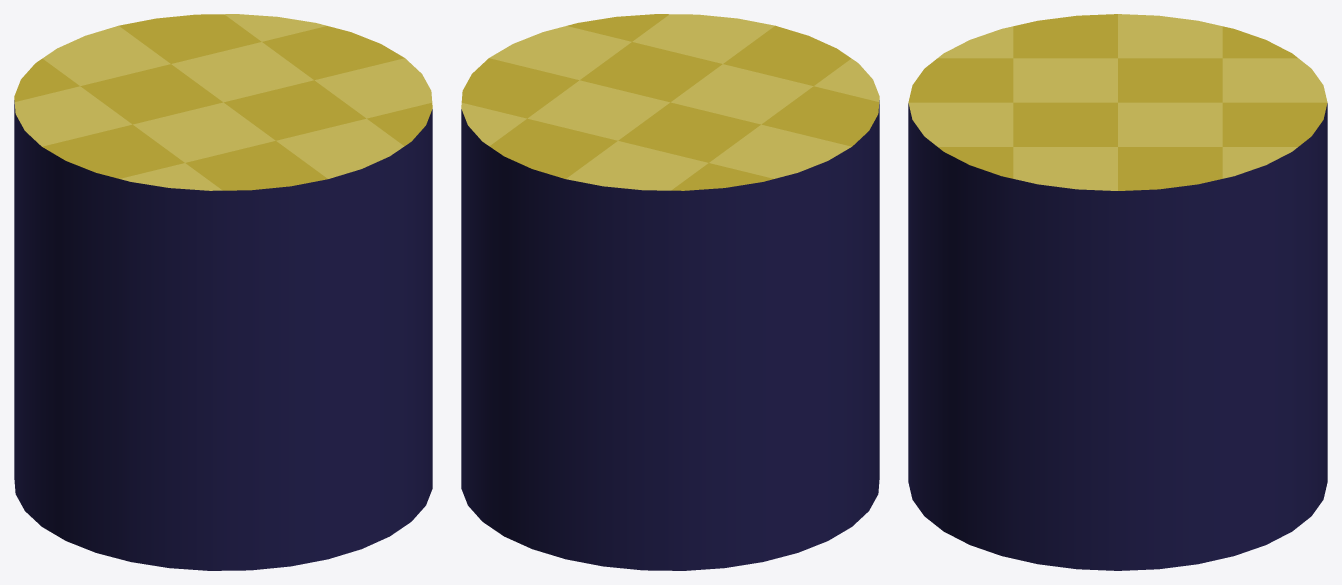
File: cyl_yellow.glb
3 renders of one model, left to right at view 1: azimuth 30°, elevation 25°; view 2: azimuth 150°, elevation 25°; view 3: azimuth 270°, elevation 25°, orthographic.
Visible parts, largest first — view 1: Body; view 2: Body; view 3: Body.
Boxes of the visible parts, bbox=[...] form: Body: bbox=[14, 14, 432, 570]; Body: bbox=[461, 14, 879, 570]; Body: bbox=[908, 14, 1327, 570].
Size of the model in its own units: 1 by 1 by 1.
